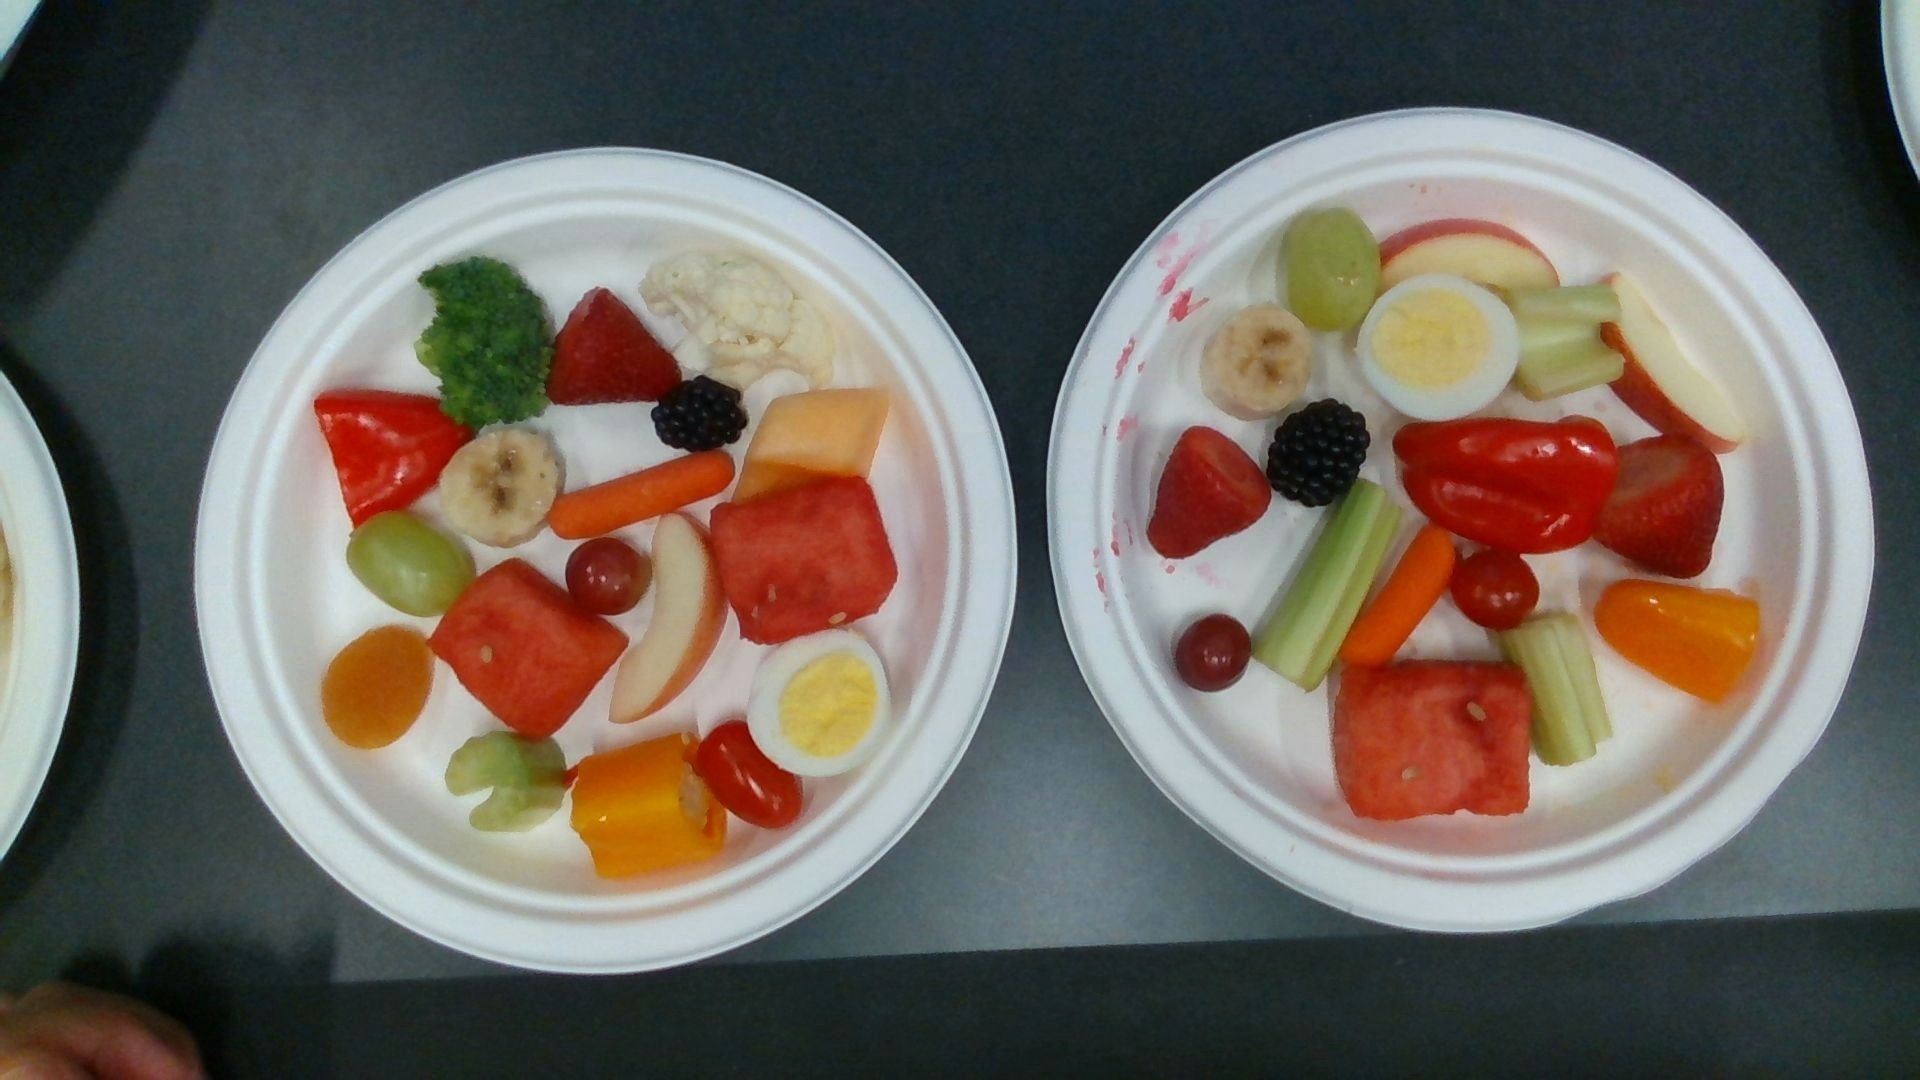apple: (1600, 266, 1745, 451), (615, 513, 723, 715), (1374, 220, 1559, 290)
apricot: (322, 628, 429, 746)
banana: (442, 431, 564, 543), (1204, 303, 1309, 418)
bell_pepper: (1393, 415, 1619, 551), (313, 388, 473, 527), (574, 736, 725, 881), (1596, 580, 1764, 703)
blackberry: (1273, 404, 1370, 501), (657, 382, 746, 450)
broccoli: (411, 258, 549, 419)
cantalope: (737, 386, 887, 493)
carrot: (1342, 526, 1458, 666), (550, 455, 735, 535)
cauliflower: (640, 247, 835, 385)
celery: (1261, 480, 1400, 688), (1510, 613, 1610, 765), (1505, 280, 1622, 398), (448, 731, 568, 833)
cherry_tomato: (695, 721, 804, 828), (1457, 553, 1539, 625)
egg: (1357, 276, 1520, 419), (746, 630, 894, 773)
grape_green: (344, 513, 472, 611), (1284, 206, 1379, 328)
grape_purple: (570, 541, 651, 611), (1178, 616, 1250, 690)
melon: (429, 563, 624, 741), (1337, 661, 1534, 822), (709, 476, 894, 640)
strawberry: (1586, 436, 1724, 576), (1147, 426, 1269, 555), (556, 287, 680, 404)
